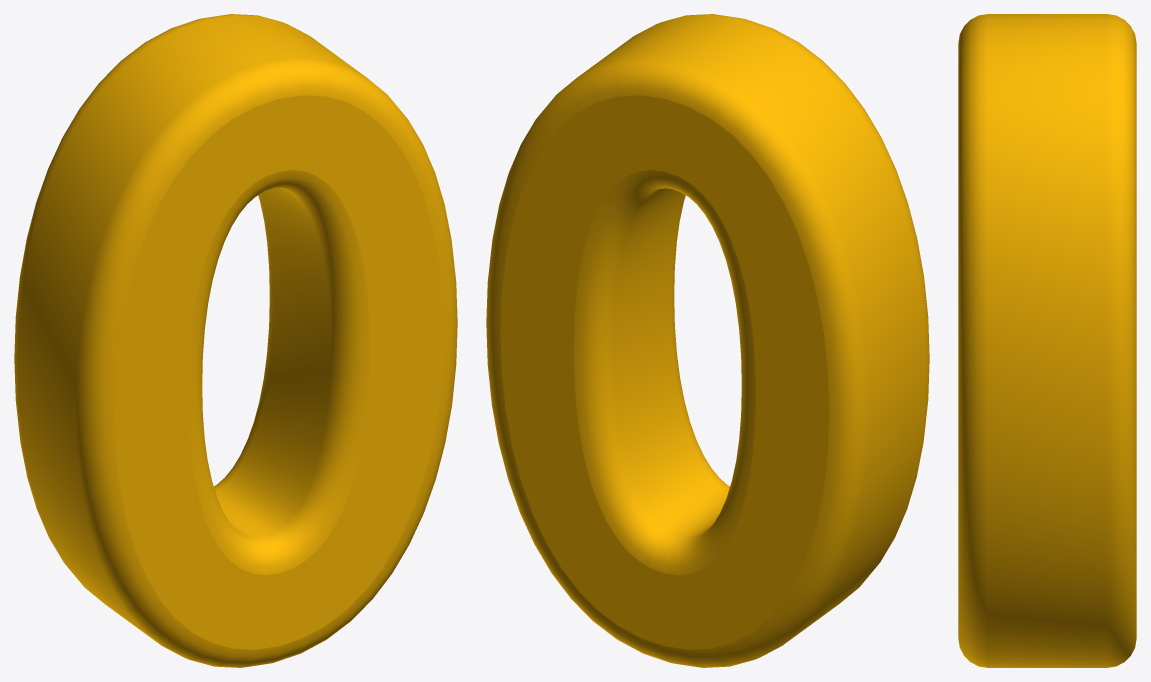
The picture shows the model from 3 angles, left to right: view 1: azimuth 30°, elevation 25°; view 2: azimuth 150°, elevation 25°; view 3: azimuth 270°, elevation 25°; orthographic projection. The views are drawn at different scales.
Visible parts, largest first — view 1: Text; view 2: Text; view 3: Text.
Boxes of the visible parts, x1,y1,x2,y2 form: Text: (14,14,457,667); Text: (486,14,929,667); Text: (958,14,1136,667).
Bounding box in the file's own units: 1.52 × 2.3 × 0.6.
